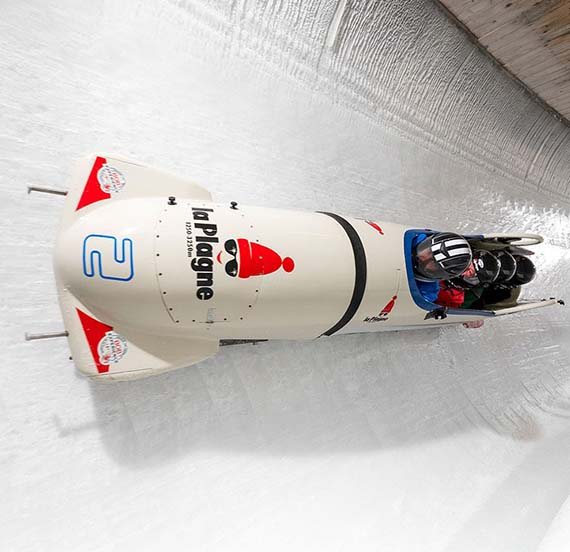Bobsleigh: (29, 155, 560, 381)
